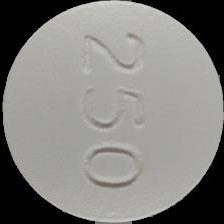10544-603: (0, 0, 224, 224)
